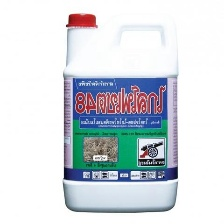insecticide: (56, 5, 190, 214)
